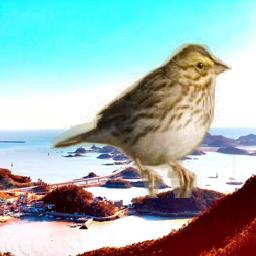Sparrow: (50, 38, 232, 198)
